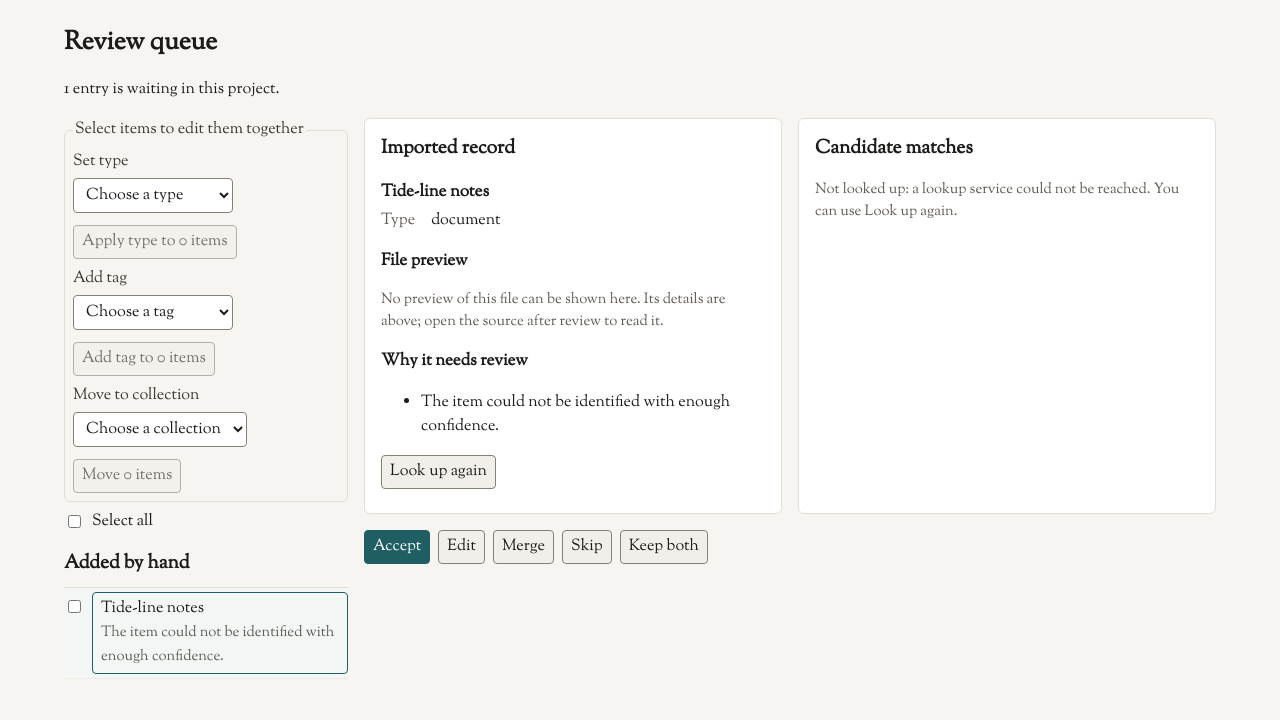
it: not offered where nothing may be changed › locked while it ran: the queue is forgotten and the unlock form shown
Click the button with aria-label "Show Tide-line notes" at (220, 633), box left=92, top=592, right=348, bottom=674
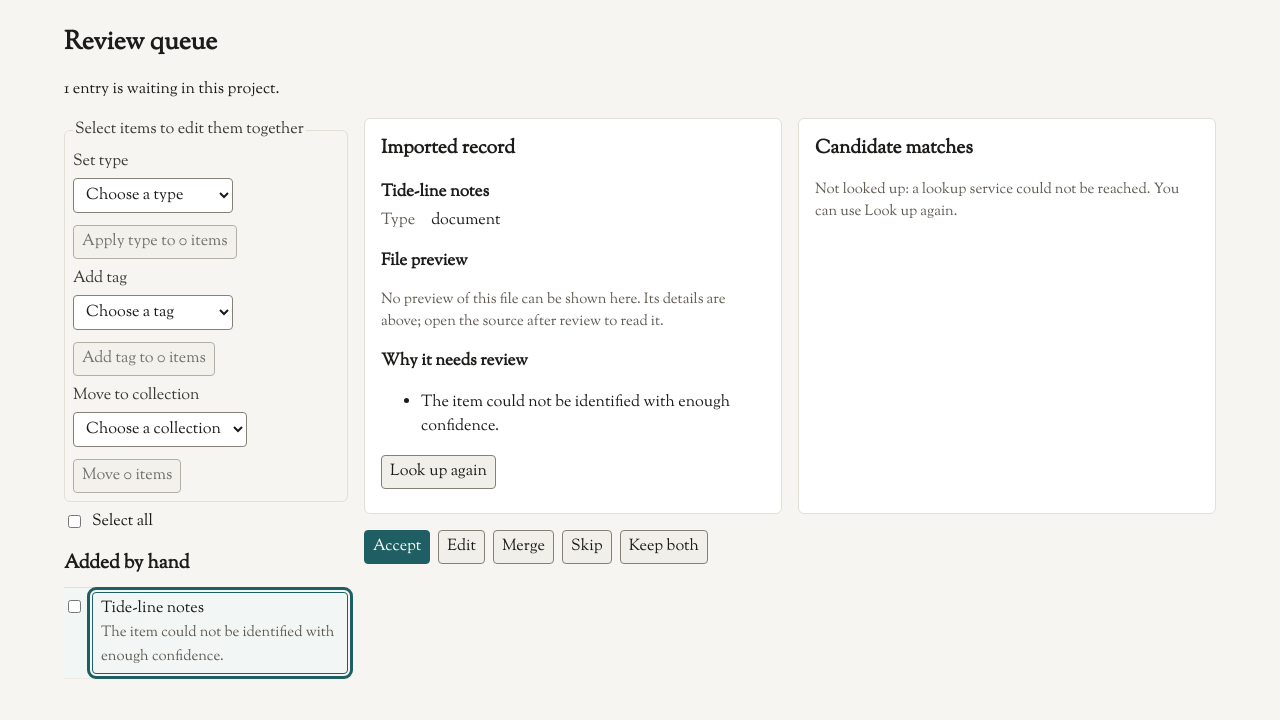
Expected: the heading "Tide-line notes" is shown, left=381, top=180, right=489, bottom=204
Click the button "Look up again" at (438, 472), box left=381, top=455, right=496, bottom=489
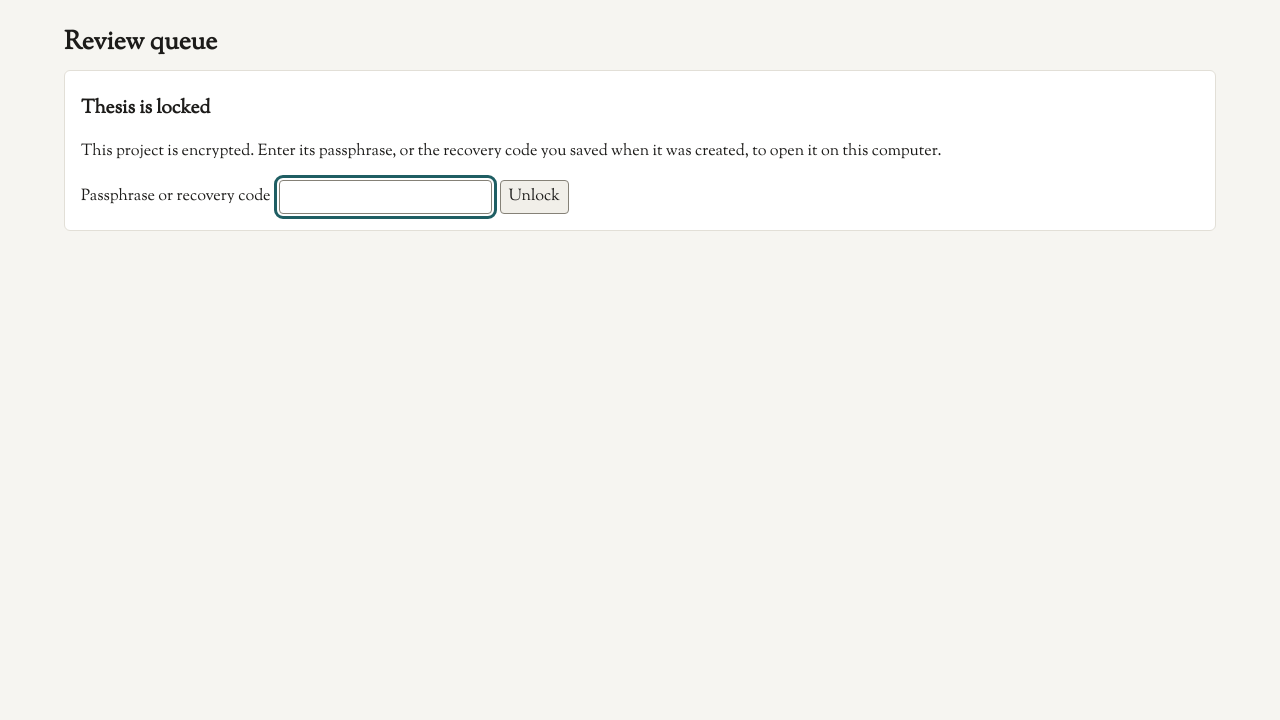
Expected: the password field labelled "Passphrase or recovery code" is shown, left=278, top=180, right=492, bottom=214
Expected: the button "Tide-line notes" is gone
